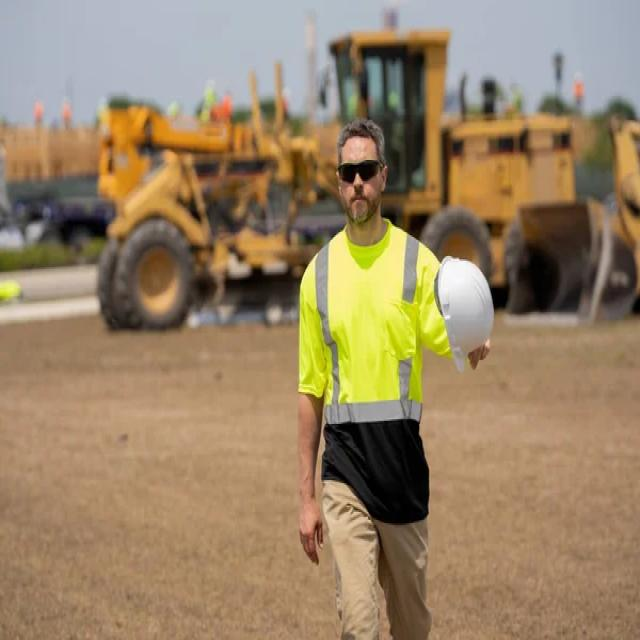unsecured person: (299, 118, 451, 606)
